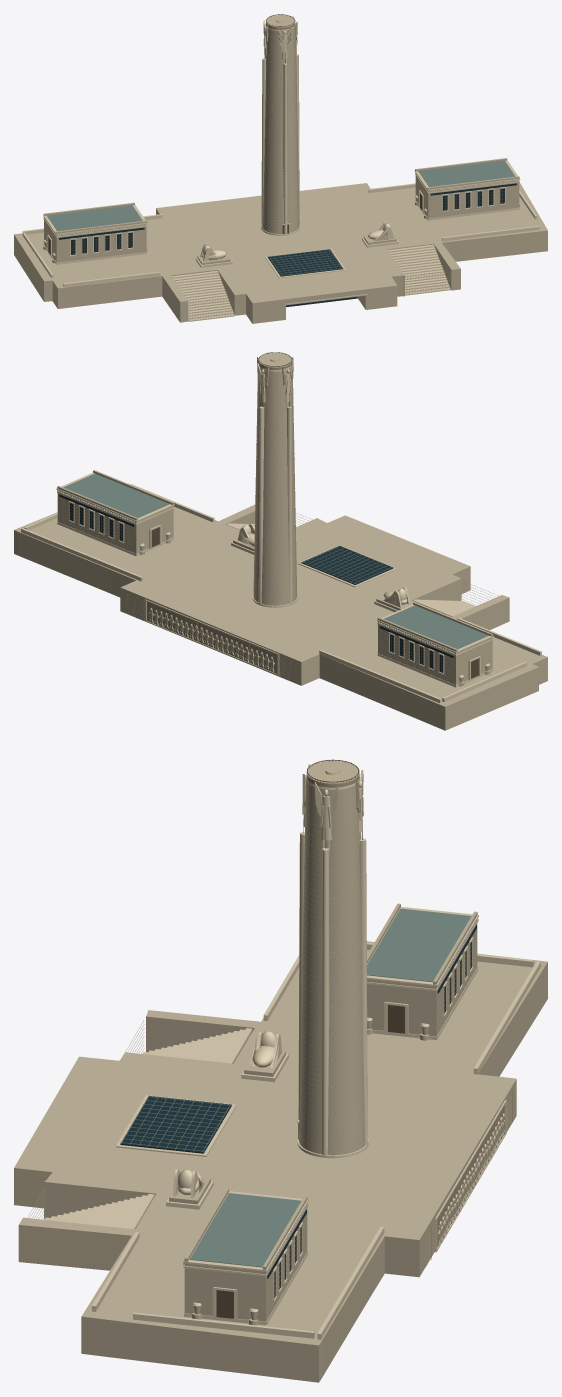
Rendered from liberty-memorial-near.glb.
The picture shows the model from 3 angles, top to bottom: view 1: azimuth 30°, elevation 25°; view 2: azimuth 150°, elevation 25°; view 3: azimuth 270°, elevation 25°; orthographic projection. The views are drawn at different scales.
Visible parts, largest first — view 1: liberty-memorial-0-stone, liberty-memorial-0-trim, liberty-memorial-0-roof, liberty-memorial-0-glass, liberty-memorial-0-joint, liberty-memorial-0-bronze; view 2: liberty-memorial-0-stone, liberty-memorial-0-trim, liberty-memorial-0-roof, liberty-memorial-0-glass, liberty-memorial-0-joint, liberty-memorial-0-bronze; view 3: liberty-memorial-0-stone, liberty-memorial-0-trim, liberty-memorial-0-roof, liberty-memorial-0-glass, liberty-memorial-0-joint, liberty-memorial-0-bronze.
Part boxes in pixels (x1,y1,x2,y2): liberty-memorial-0-stone: [14, 15, 547, 323]; liberty-memorial-0-trim: [22, 16, 539, 321]; liberty-memorial-0-roof: [47, 160, 515, 275]; liberty-memorial-0-glass: [59, 183, 516, 307]; liberty-memorial-0-joint: [57, 23, 518, 319]; liberty-memorial-0-bronze: [48, 14, 515, 306]; liberty-memorial-0-stone: [14, 353, 547, 730]; liberty-memorial-0-trim: [21, 352, 541, 703]; liberty-memorial-0-roof: [63, 473, 488, 649]; liberty-memorial-0-glass: [59, 494, 453, 672]; liberty-memorial-0-joint: [60, 362, 498, 681]; liberty-memorial-0-bronze: [60, 352, 478, 678]; liberty-memorial-0-stone: [14, 761, 547, 1382]; liberty-memorial-0-trim: [44, 759, 540, 1339]; liberty-memorial-0-roof: [120, 908, 471, 1267]; liberty-memorial-0-glass: [120, 925, 476, 1297]; liberty-memorial-0-joint: [27, 774, 515, 1319]; liberty-memorial-0-bronze: [216, 759, 476, 1318].
Bounding box in the file's own units: 155 × 72.74 × 85.86.
